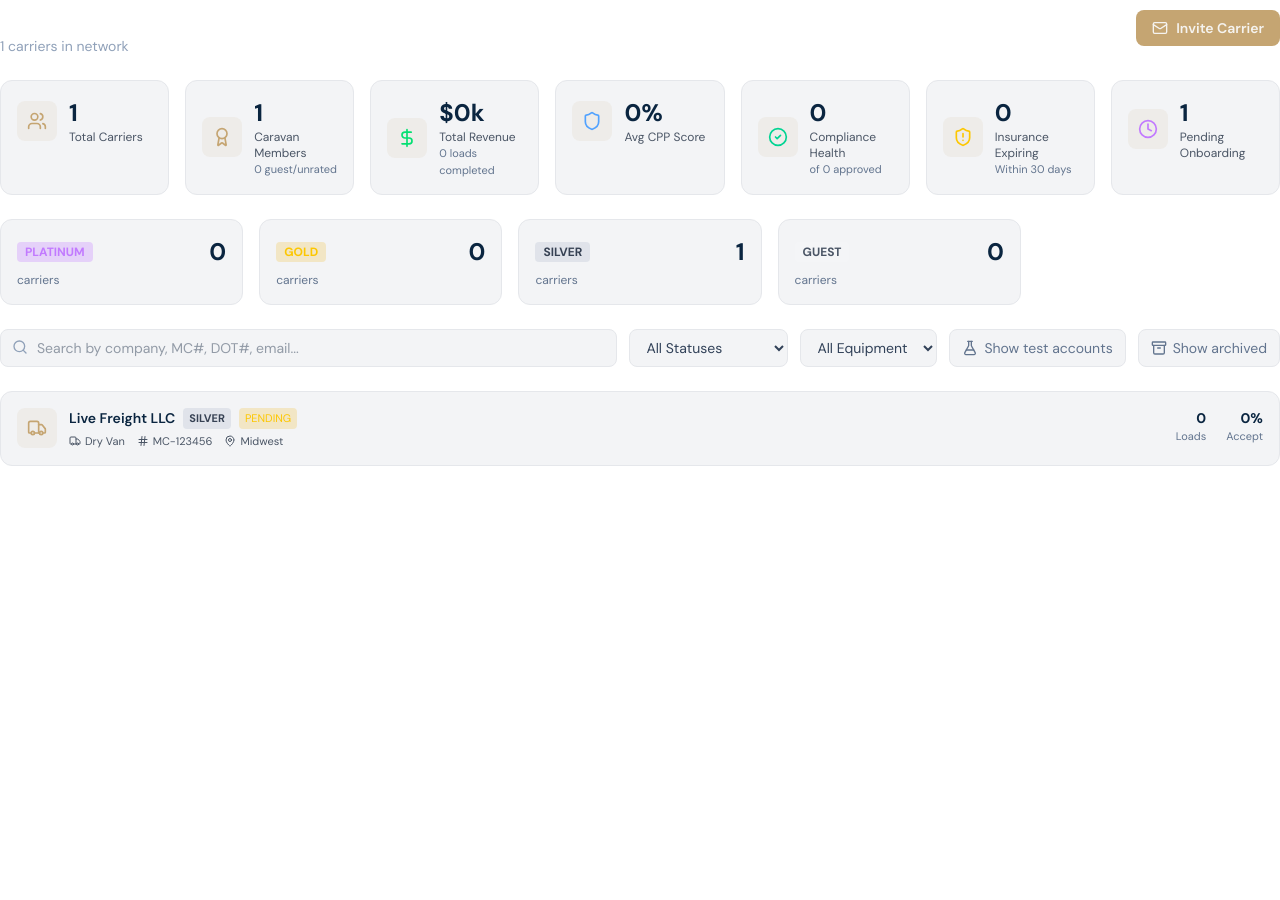
an archived carrier is read-only on this page › a live carrier's actions are enabled and carry no archived title
Expected: the text "Live Freight LLC" is shown, [69,408,175,428]
What coordinates should you click on to do the following:
click the button "Live Freight LLC"
I would click on:
 (37, 428)
Its box is [0,391,1279,466].
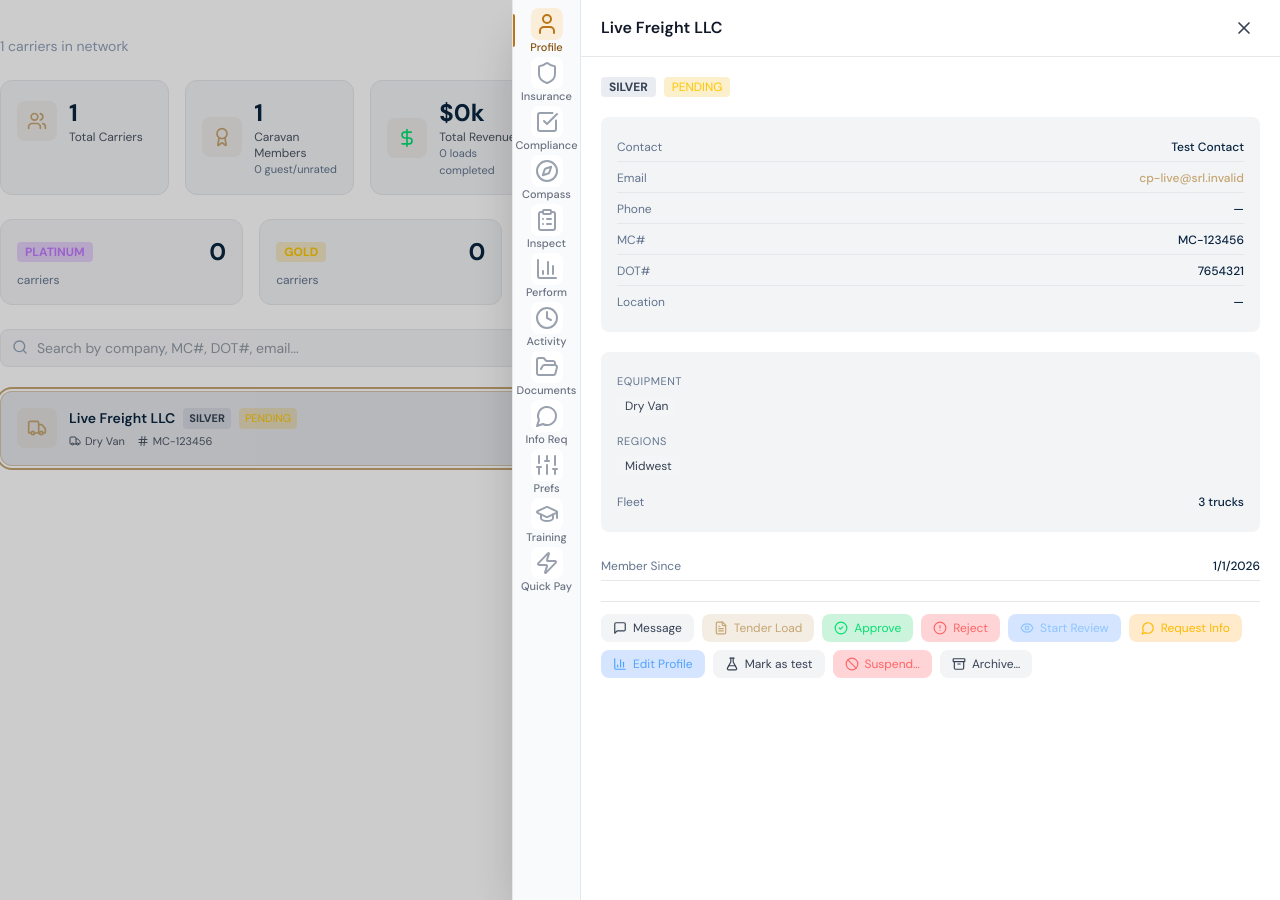
Expected: the button "Approve" is enabled, [822,614,913,642]
Expected: the button "Reject" is enabled, [921,614,1000,642]
Expected: the button "Start Review" is enabled, [1008,614,1121,642]
